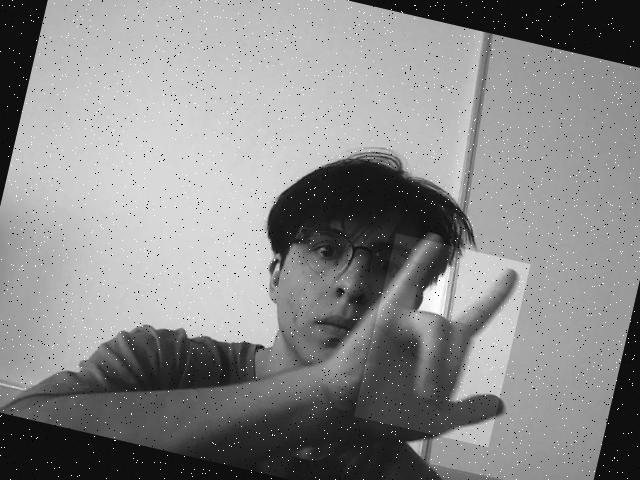I_Love_You: (353, 232, 530, 448)
